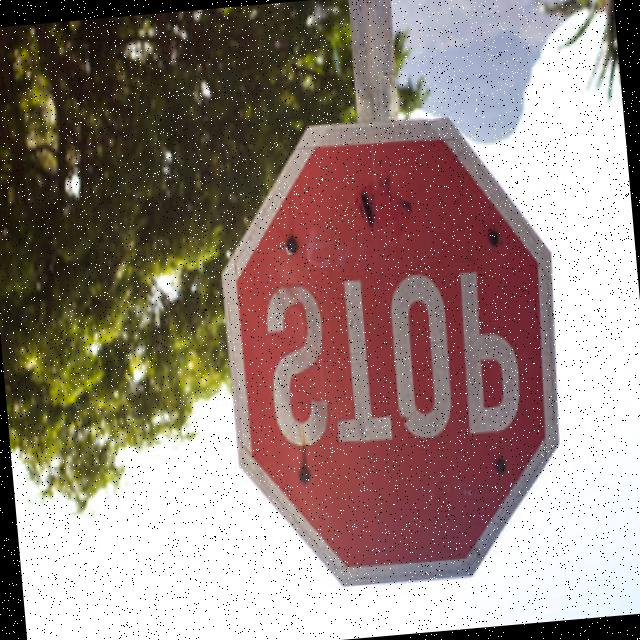stop: (194, 84, 596, 622)
